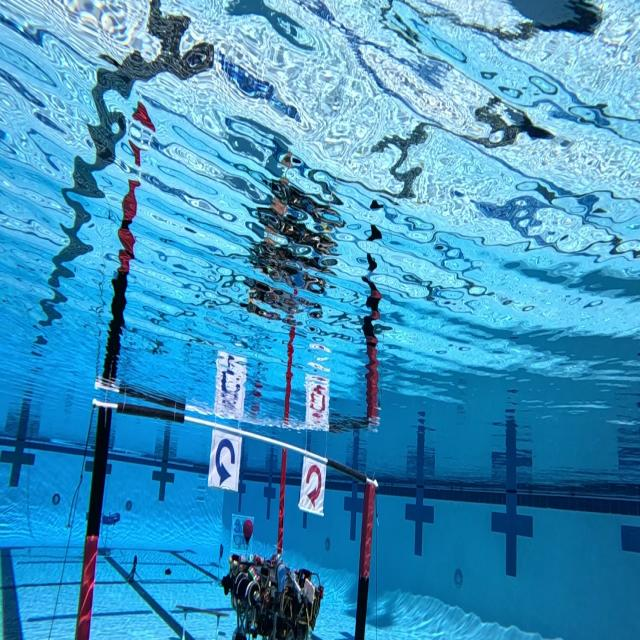blue_side: (208, 425, 244, 495)
red_side: (301, 452, 326, 514)
